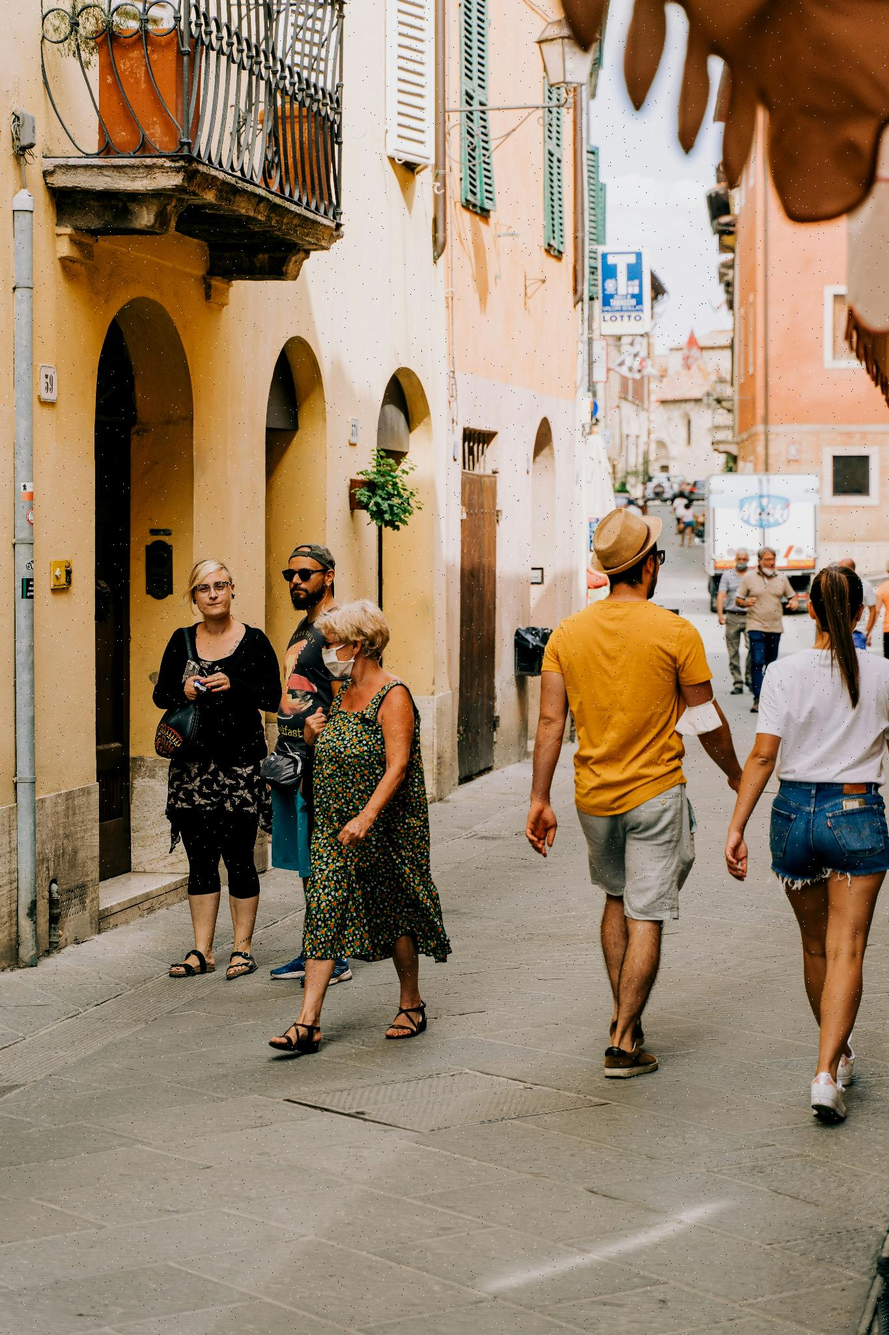pedestrian: (528, 513, 728, 1092), (724, 562, 888, 1128), (271, 594, 435, 1049), (152, 554, 284, 978), (259, 541, 335, 1009), (742, 546, 791, 706), (715, 548, 755, 694)
